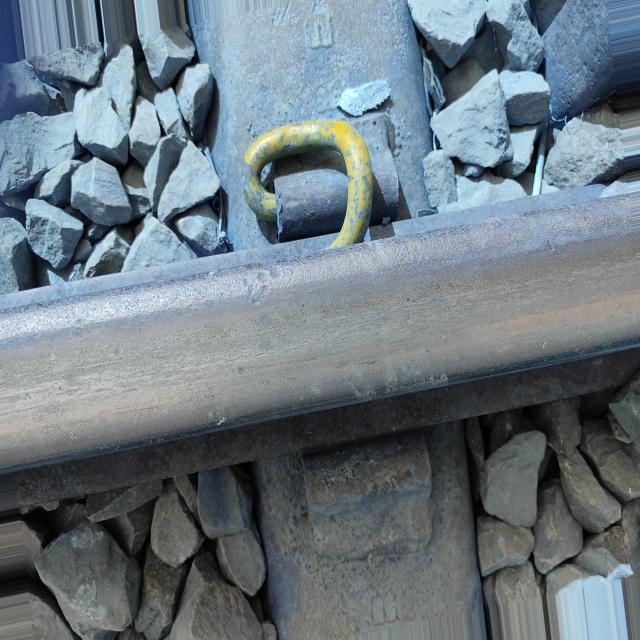Good Fasteners: (230, 85, 423, 252)
Missing Fastener: (289, 439, 480, 577)
